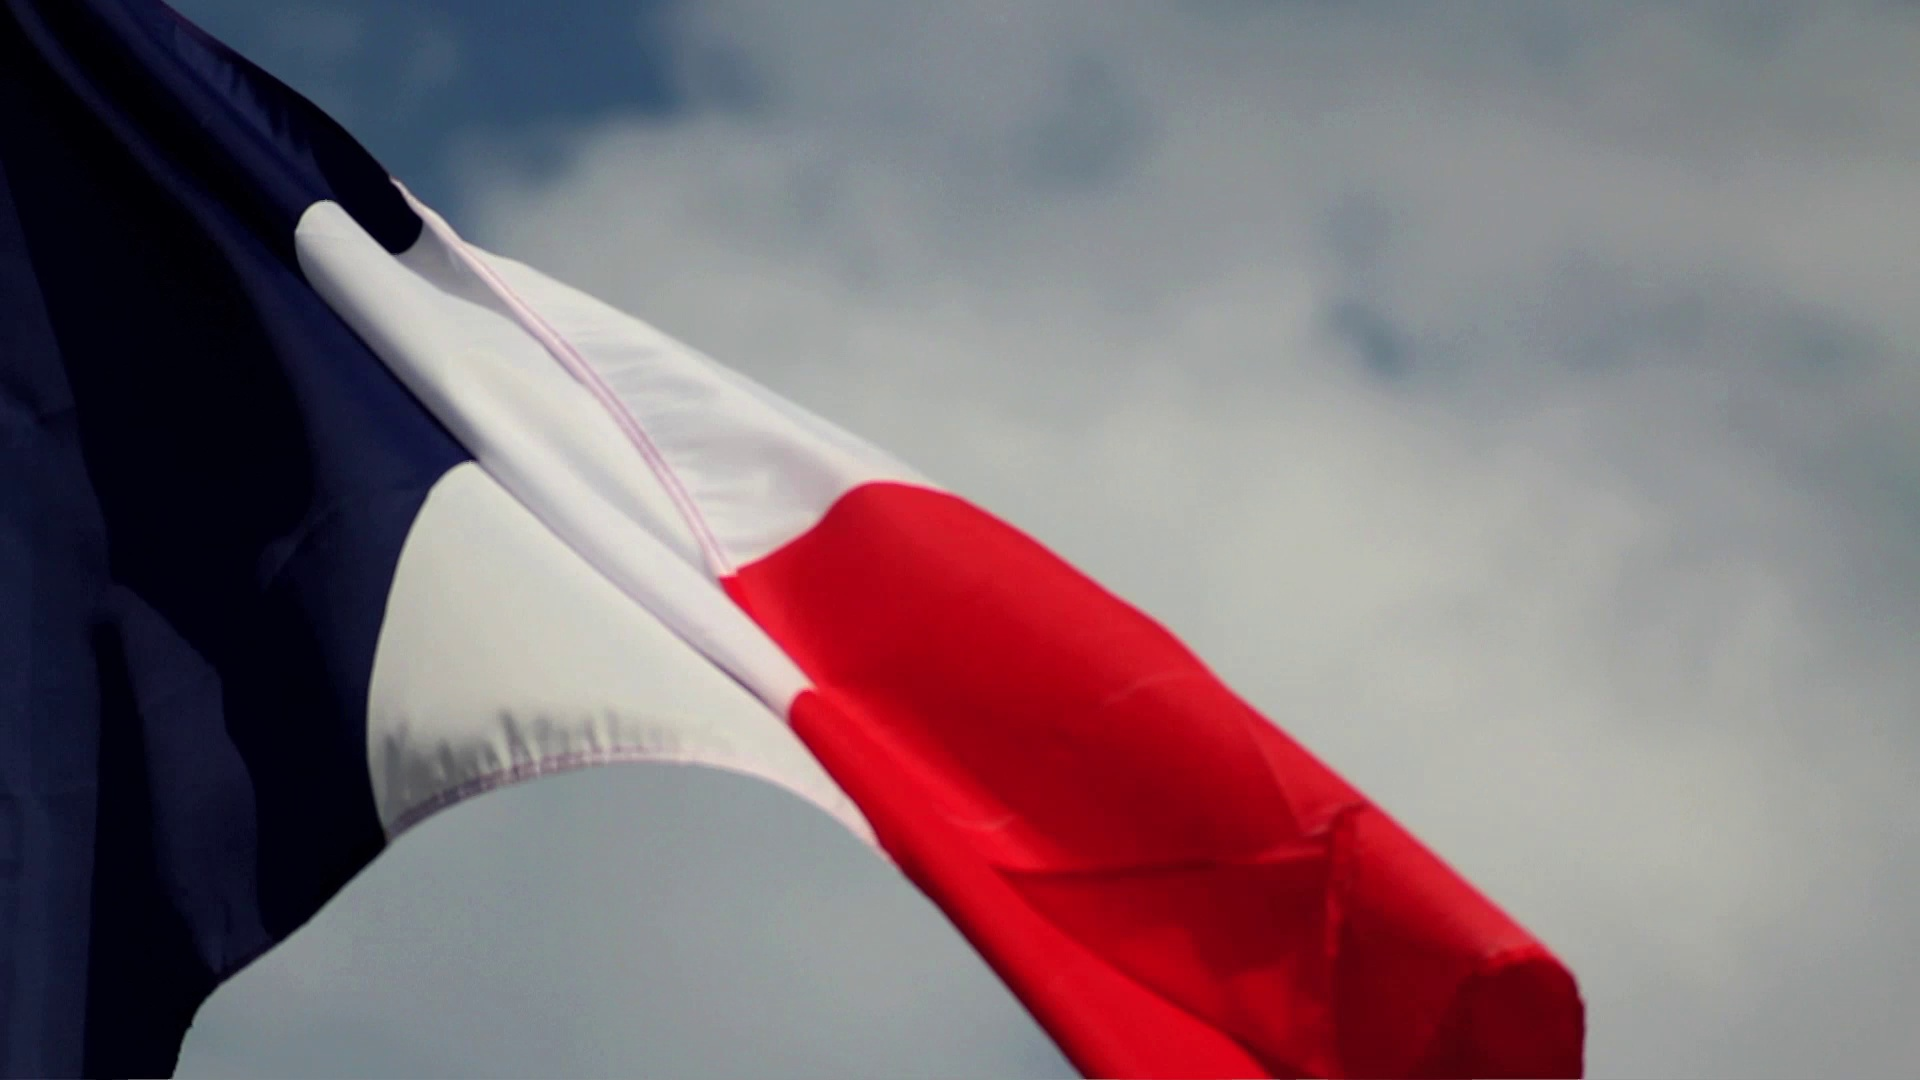French Flag: (1, 1, 1588, 1072)
